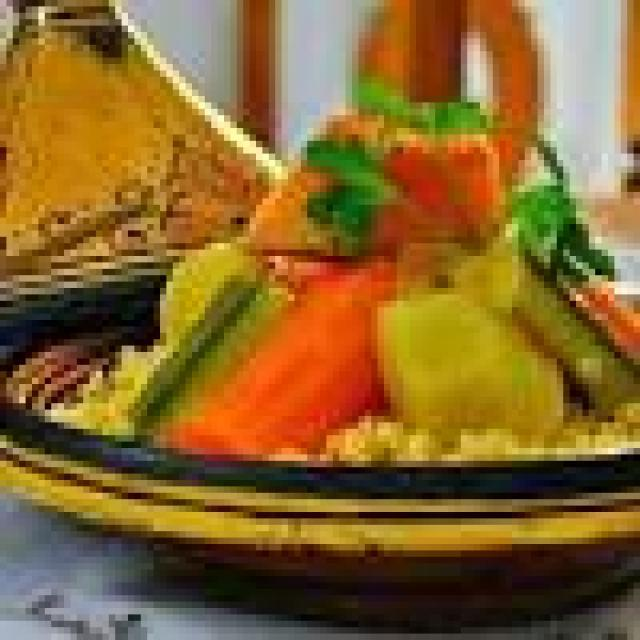Couscous: (36, 108, 640, 464)
